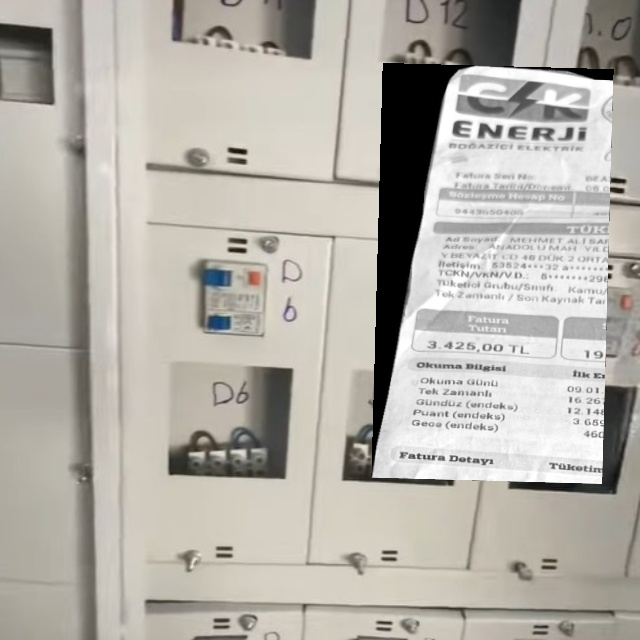electricity-bill: (370, 63, 614, 484)
